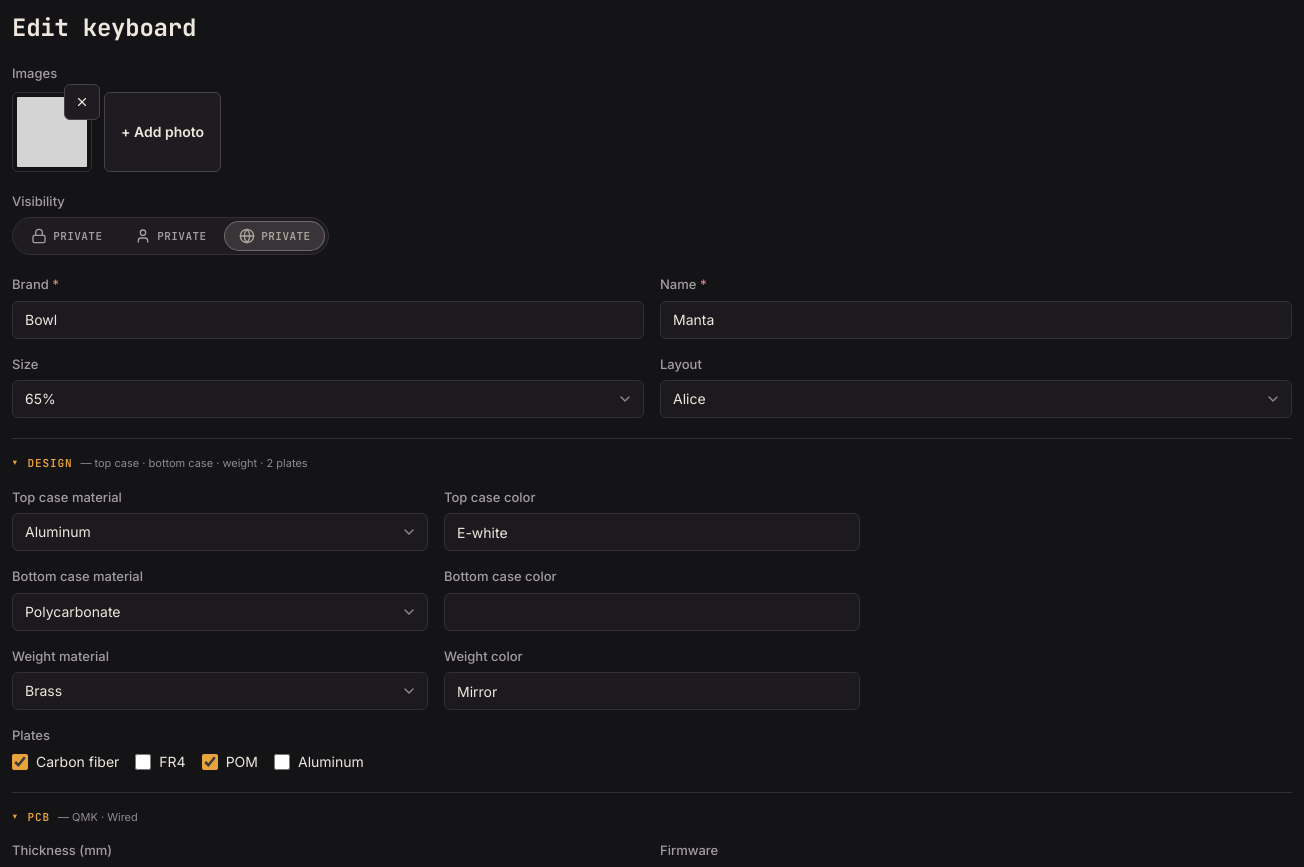
Test: KeyboardForm.svelte › images on an existing keyboard › says so when removing a photo fails, and lets you try again
The image size is (1304, 867).
Click the button named "Remove image 1 of 1". click: (82, 102)
box: [64,84,100,120]
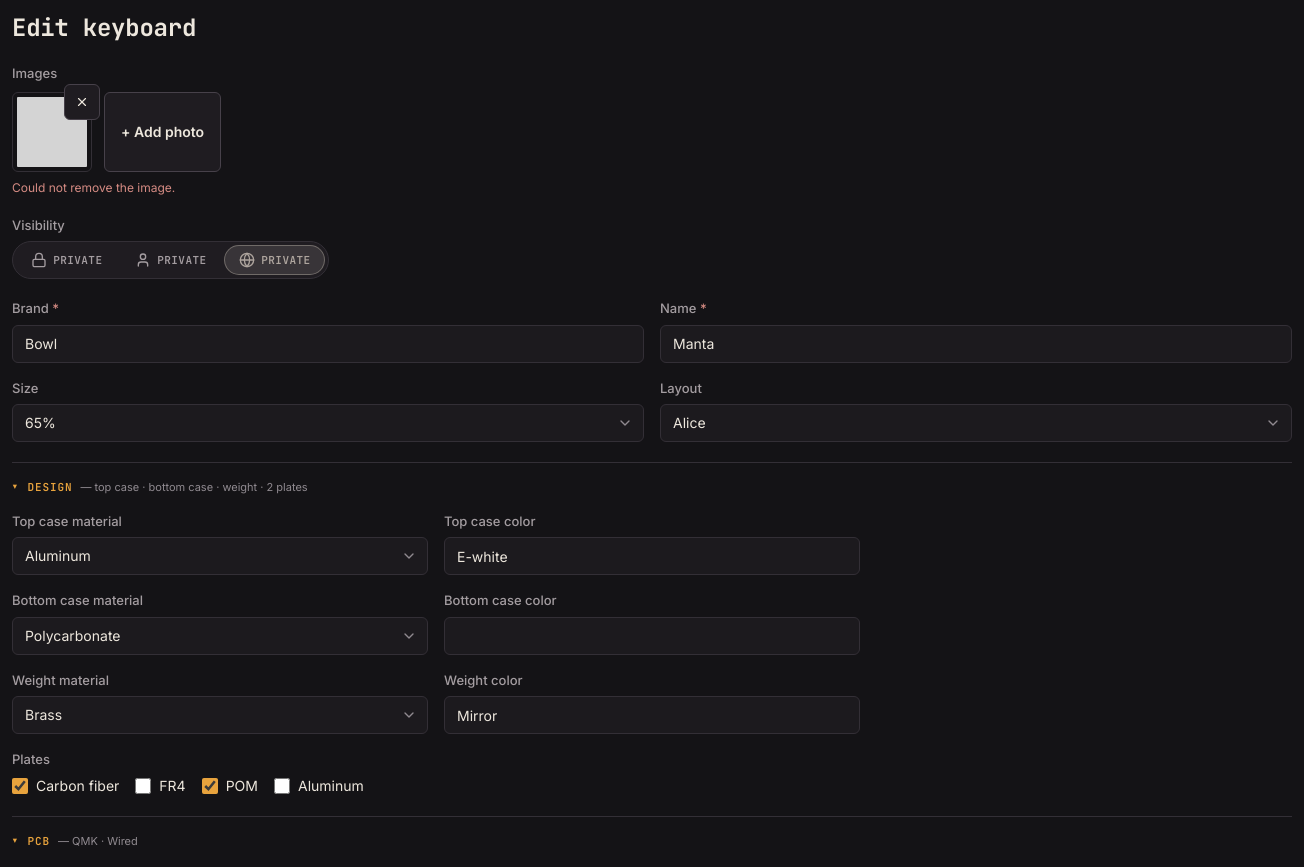
Result: the message "Could not remove the image." is shown at [12,180,175,194]
